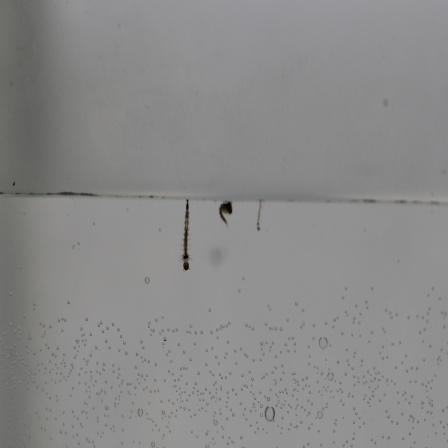Jentik-Nyamuk: (177, 195, 197, 273), (212, 197, 237, 230), (252, 199, 267, 237)
